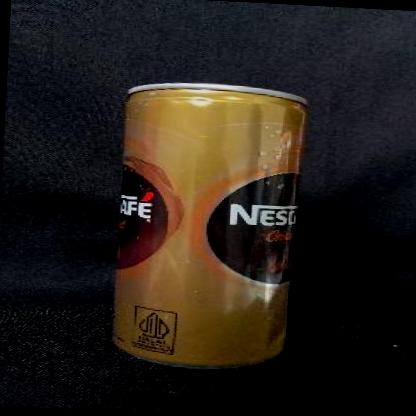alumunium_can: (108, 78, 310, 374)
